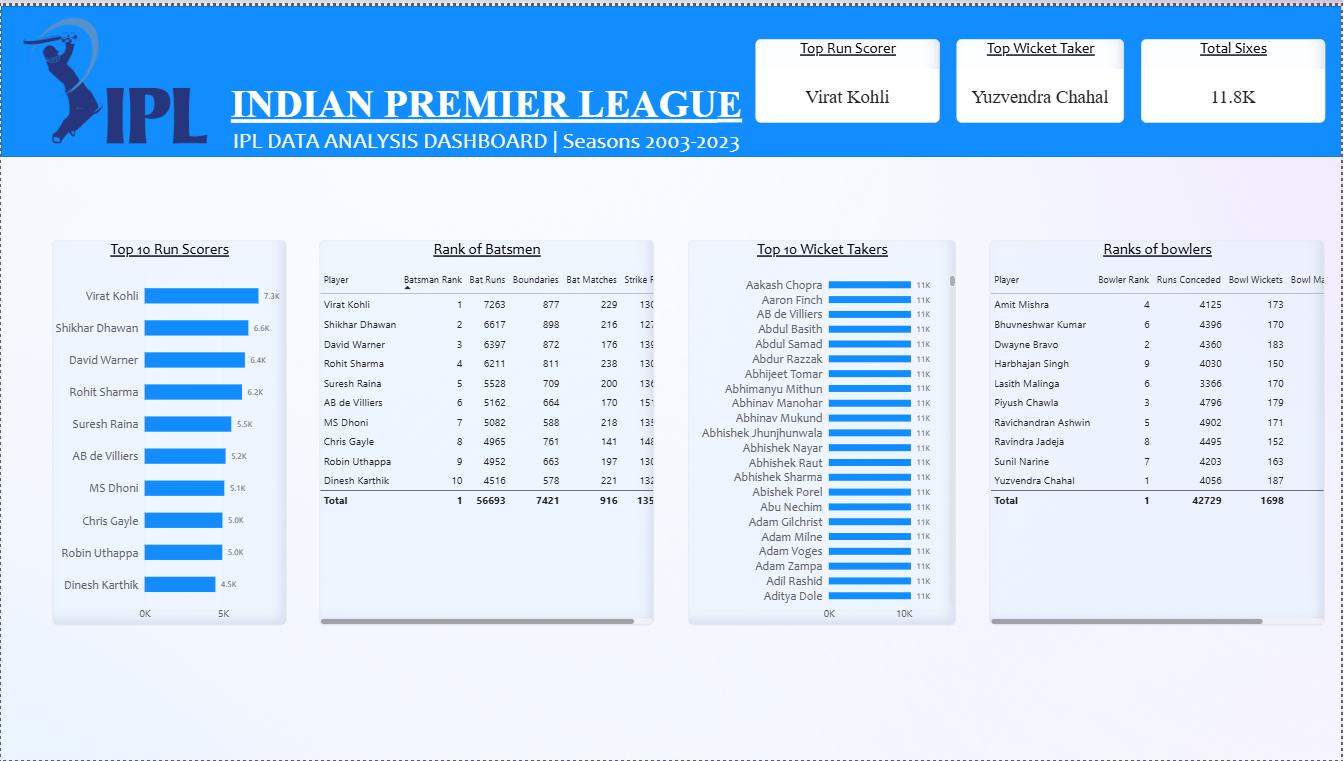

What the dashboard file says about the page in this screenshot:
{"tool":"powerbi","page":{"name":"Players Rankings","canvas":[1920,1080],"ordinal":2},"visuals":[{"type":"tableEx","title":"Ranks of bowlers","fields":{"Values":["fact_Bowling.Player","Table_Measures.Bowler Rank","Table_Measures.Runs Conceded","Table_Measures.Bowl Wickets","Table_Measures.Bowl Matches","Table_Measures.Economy"]},"box":[1416,336,480,552],"z":0},{"type":"tableEx","title":"Rank of Batsmen","fields":{"Values":["fact_Batting.Player","Table_Measures.Batsman Rank","Table_Measures.Bat Runs","Table_Measures.Boundaries","Table_Measures.Bat Matches","Table_Measures.Strike Rate"]},"box":[456,336,480,552],"z":1000},{"type":"shape","box":[0,0,1920,216],"z":2000},{"type":"group","id":"g1","title":"Group 1","box":[10,10,1128,216],"z":3000},{"type":"cardVisual","title":"Top Run Scorer","fields":{"Data":["Table_Measures.Top Run Scorer"]},"box":[1080,48,264,120],"z":7000},{"type":"cardVisual","title":"Top Wicket Taker","fields":{"Data":["Table_Measures.Top Wicket Taker"]},"box":[1368,48,240,120],"z":8000},{"type":"image","box":[10,10,312,192],"z":9000,"group":"g1"},{"type":"cardVisual","title":"Total Sixes","fields":{"Data":["Table_Measures.Total Sixes"]},"box":[1632,48,264,120],"z":9000},{"type":"textbox","box":[250,106,888,120],"z":10000,"group":"g1"},{"type":"clusteredBarChart","title":"Top 10 Run Scorers","fields":{"Category":["fact_Batting.Player"],"Y":["Table_Measures.Bat Runs"]},"box":[72,336,336,552],"z":10000},{"type":"clusteredBarChart","title":"Top 10 Wicket Takers","fields":{"Category":["fact_Batting.Player"],"Y":["Table_Measures.Bowl Wickets"]},"box":[984,336,384,552],"z":11000}]}

Visuals, with their boxes in screenshot pixels (x1, y1, x2, y2), scaled from the page's 1920x1080 canvas onto the 1344x761 screenshot:
"Ranks of bowlers" tableEx: box=[991, 237, 1327, 626]
"Rank of Batsmen" tableEx: box=[319, 237, 655, 626]
shape: box=[0, 0, 1343, 152]
"Group 1" group: box=[7, 7, 797, 159]
"Top Run Scorer" cardVisual: box=[756, 34, 941, 118]
"Top Wicket Taker" cardVisual: box=[958, 34, 1126, 118]
image: box=[7, 7, 225, 142]
"Total Sixes" cardVisual: box=[1142, 34, 1327, 118]
textbox: box=[175, 75, 797, 159]
"Top 10 Run Scorers" clusteredBarChart: box=[50, 237, 286, 626]
"Top 10 Wicket Takers" clusteredBarChart: box=[689, 237, 958, 626]
